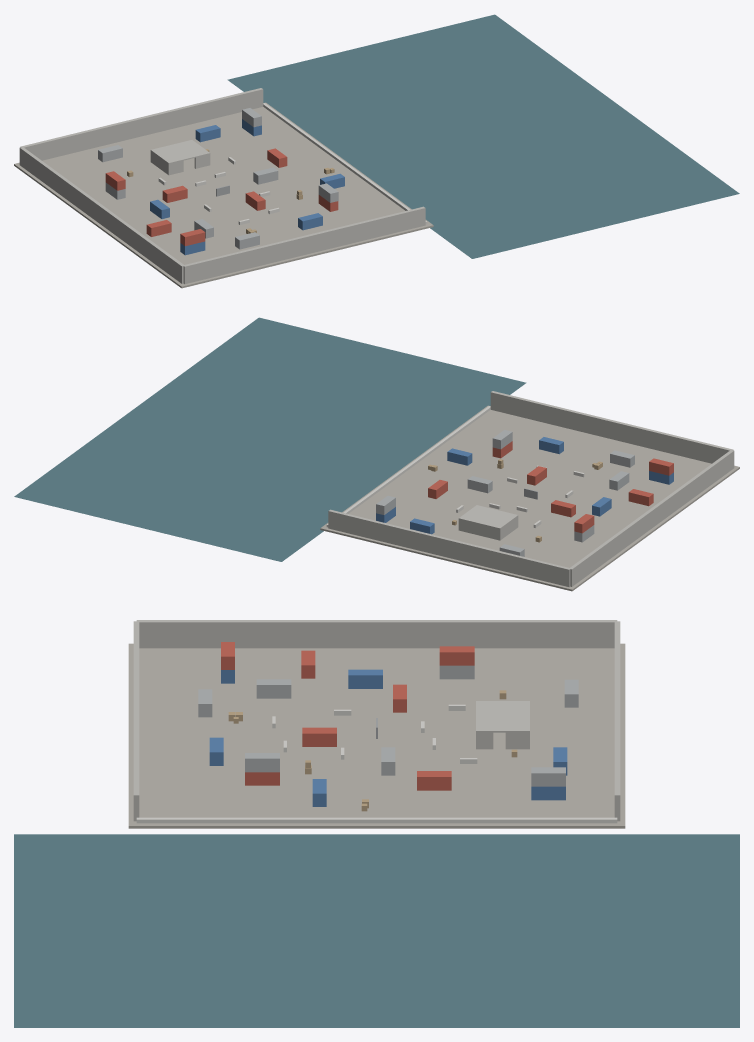
Rendered from render.glb.
The picture shows the model from 3 angles, top to bottom: view 1: azimuth 30°, elevation 25°; view 2: azimuth 150°, elevation 25°; view 3: azimuth 270°, elevation 25°; orthographic projection. The views are drawn at different scales.
Parts seen in each view (by area): view 1: water_sea, ground_quay, blk_concrete_00, blk_containerRed_15, blk_containerGrey_16, blk_containerBlue_14, blk_barrier_03; view 2: water_sea, ground_quay, blk_concrete_00, blk_containerRed_15, blk_containerGrey_16, blk_containerBlue_14, blk_barrier_03; view 3: water_sea, ground_quay, blk_concrete_00, blk_barrier_03, blk_containerGrey_16, blk_containerRed_15, blk_containerBlue_14.
Boxes of the visible parts, <box> form: water_sea: <box>227,14,739,258</box>; ground_quay: <box>14,102,433,288</box>; blk_concrete_00: <box>19,88,425,284</box>; blk_containerRed_15: <box>105,148,338,246</box>; blk_containerGrey_16: <box>98,108,338,249</box>; blk_containerBlue_14: <box>150,119,344,255</box>; blk_barrier_03: <box>158,103,427,224</box>; water_sea: <box>14,317,526,561</box>; ground_quay: <box>320,405,739,591</box>; blk_concrete_00: <box>328,391,734,587</box>; blk_containerRed_15: <box>428,441,673,533</box>; blk_containerGrey_16: <box>376,430,634,556</box>; blk_containerBlue_14: <box>376,437,673,534</box>; blk_barrier_03: <box>326,406,584,527</box>; water_sea: <box>14,834,739,1027</box>; ground_quay: <box>128,643,625,828</box>; blk_concrete_00: <box>133,620,620,821</box>; blk_barrier_03: <box>136,704,617,823</box>; blk_containerGrey_16: <box>198,665,578,786</box>; blk_containerRed_15: <box>221,642,474,790</box>; blk_containerBlue_14: <box>209,669,567,806</box>.
Bounding box in the file's own units: 155 × 6.79 × 127.
